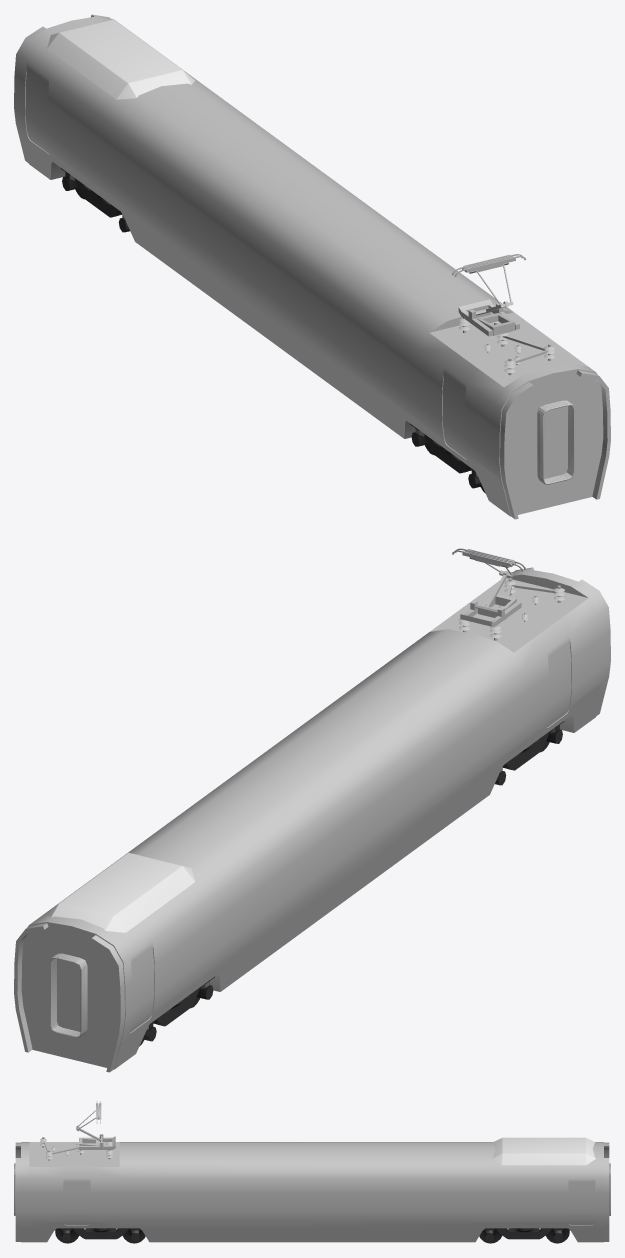
The model's file is crh1aa2.fbx.
3 renders of one model, top to bottom at view 1: azimuth 30°, elevation 25°; view 2: azimuth 150°, elevation 25°; view 3: azimuth 270°, elevation 25°, orthographic. The views are drawn at different scales.
Visible parts, largest first — view 1: body, under, kt, lj, sdg, bogie; view 2: body, under, kt, lj, sdg, bogie; view 3: body, under, kt, bogie, lj, sdg.
Part boxes in pixels (left/top/right/bottom): body: left=17, top=16, right=603, bottom=492; under: left=23, top=140, right=597, bottom=516; kt: left=47, top=19, right=194, bottom=99; lj: left=14, top=14, right=610, bottom=519; sdg: left=452, top=254, right=555, bottom=375; bogie: left=60, top=168, right=485, bottom=493; body: left=21, top=569, right=607, bottom=1045; under: left=27, top=693, right=601, bottom=1069; kt: left=47, top=853, right=195, bottom=932; lj: left=14, top=567, right=610, bottom=1072; sdg: left=452, top=548, right=564, bottom=640; bogie: left=139, top=721, right=564, bottom=1046; body: left=21, top=1142, right=603, bottom=1228; under: left=21, top=1228, right=603, bottom=1242; kt: left=492, top=1137, right=595, bottom=1165; bogie: left=55, top=1228, right=569, bottom=1243; lj: left=14, top=1142, right=610, bottom=1241; sdg: left=40, top=1101, right=115, bottom=1160.
Bounding box in the file's own units: 3233 × 5948 × 25601.
